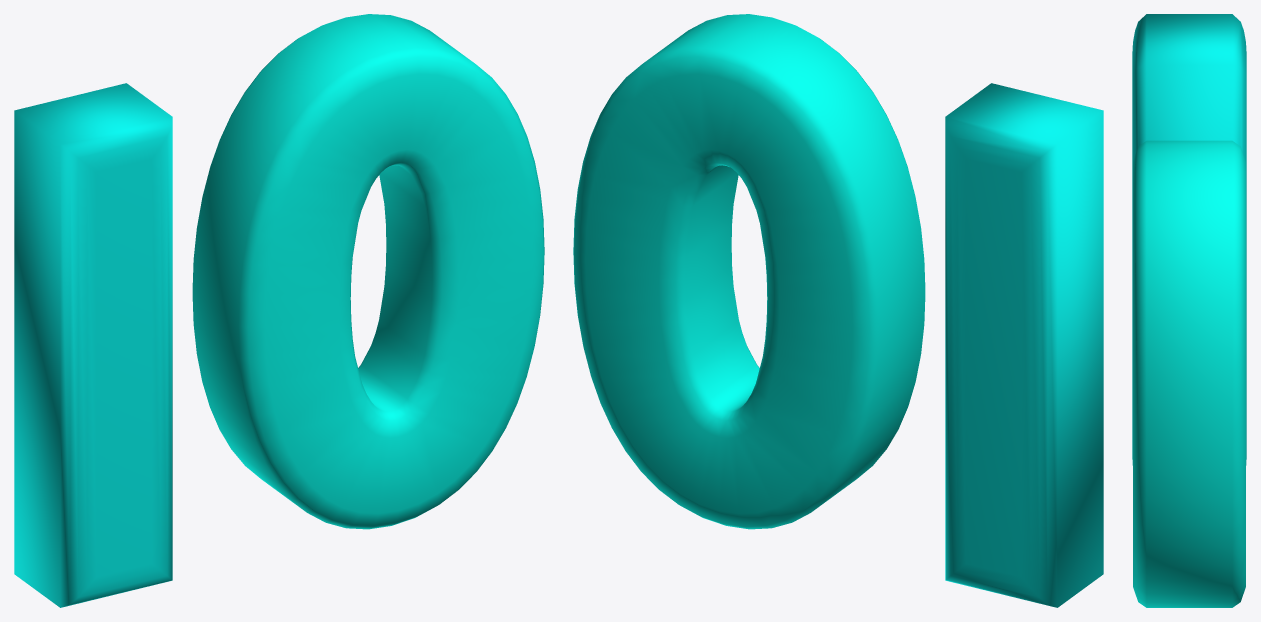
The picture shows the model from 3 angles, left to right: view 1: azimuth 30°, elevation 25°; view 2: azimuth 150°, elevation 25°; view 3: azimuth 270°, elevation 25°; orthographic projection. The views are drawn at different scales.
Parts seen in each view (by area): view 1: 0_Numbers001_0, 1_Numbers002_0; view 2: 0_Numbers001_0, 1_Numbers002_0; view 3: 0_Numbers001_0, 1_Numbers002_0.
Part boxes in pixels (left/top/right/bottom): 0_Numbers001_0: left=192, top=14, right=544, bottom=529; 1_Numbers002_0: left=14, top=83, right=172, bottom=607; 0_Numbers001_0: left=573, top=14, right=925, bottom=529; 1_Numbers002_0: left=945, top=83, right=1103, bottom=607; 0_Numbers001_0: left=1133, top=140, right=1245, bottom=607; 1_Numbers002_0: left=1132, top=14, right=1246, bottom=465.
Size of the model in its own units: 0.4272 by 0.4012 by 0.0938.
